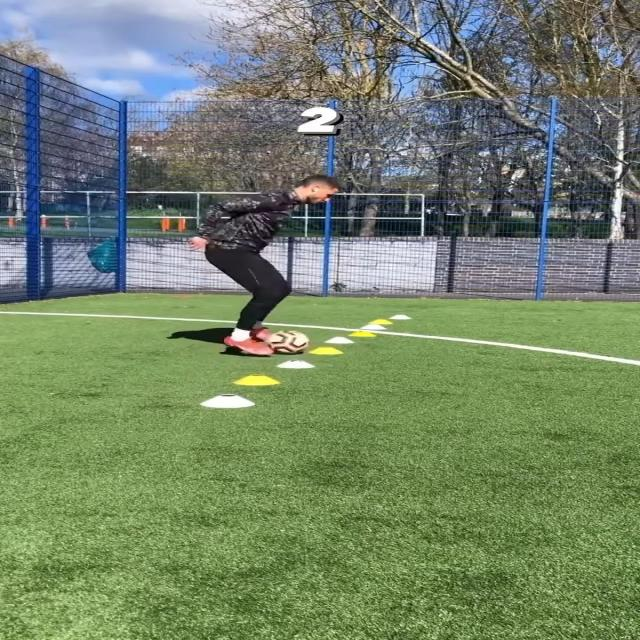Soccer Ball: (264, 330, 312, 354)
